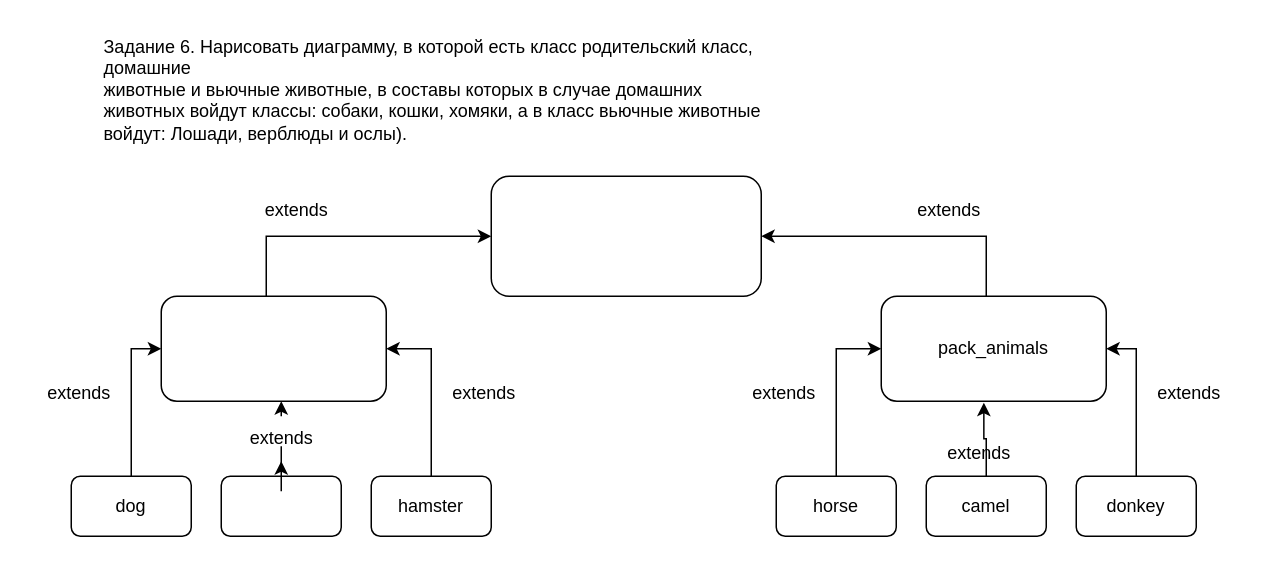
This 1266x563 diagram has some shape labels left out. Here are the shapes that lost their labels. From the top down, the centre of each, then its label:
At [625,235]: "Animals".
At [273,348]: "home_animals".
At [280,505]: "cat".
